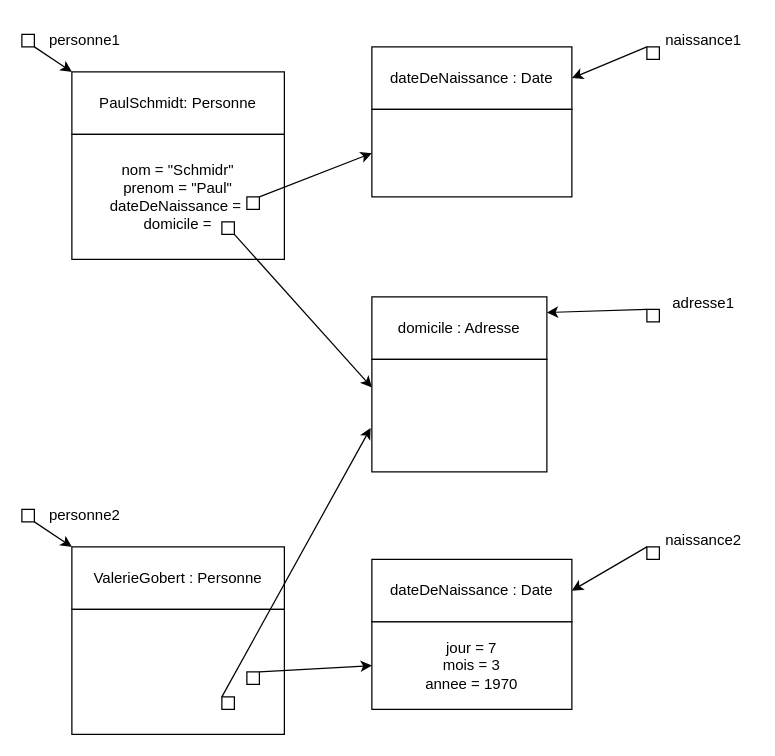
The diagram is 775 pixels wide and 756 high, and some of its shapes have lost their labels. The centre of each missing label's shape, as x and y in pixels:
jour = 6 mois = 2 annee = 1968: point 471,152
nom = "Gobert" prenom = "Valérie" dateDeNaissance = domicile =: point 177,671
rue = "Rue de la gare" numero = "34' codePostal = "5000" ville = "Namur": point 459,415
